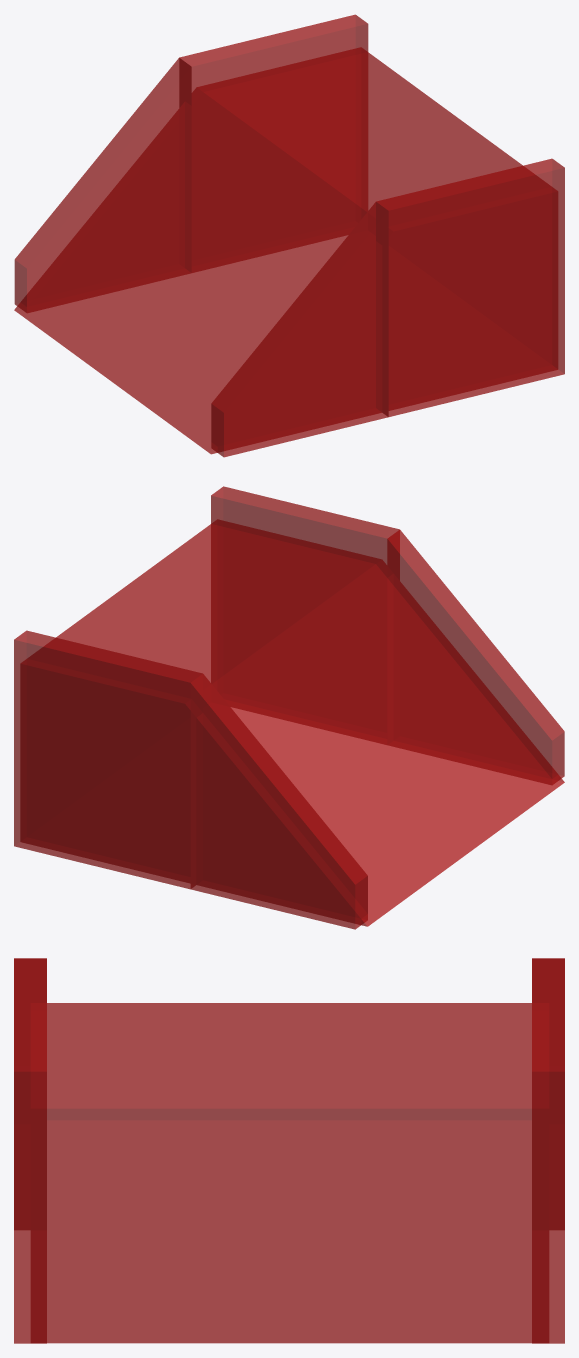
Rendered from SM_Bld_Stairs_Straight_Wide_Edges_02_Collision.fbx.
3 views of the same model, one above another, from view 1: azimuth 30°, elevation 25°; view 2: azimuth 150°, elevation 25°; view 3: azimuth 270°, elevation 25° (orthographic). The views are drawn at different scales.
Visible parts, largest first — view 1: SM_Bld_Stairs_Straight_Wide_Edges_02_Collision; view 2: SM_Bld_Stairs_Straight_Wide_Edges_02_Collision; view 3: SM_Bld_Stairs_Straight_Wide_Edges_02_Collision.
Boxes of the visible parts, bbox=[...] form: SM_Bld_Stairs_Straight_Wide_Edges_02_Collision: bbox=[14, 14, 564, 457]; SM_Bld_Stairs_Straight_Wide_Edges_02_Collision: bbox=[14, 486, 564, 929]; SM_Bld_Stairs_Straight_Wide_Edges_02_Collision: bbox=[14, 958, 564, 1343].
Bounding box in the file's own units: 510 × 290 × 532.
